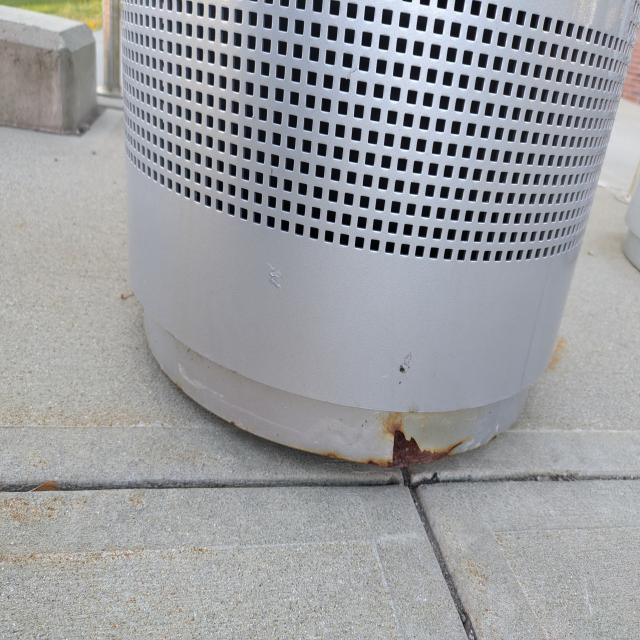Filiform Corrosion: (393, 430, 450, 468)
